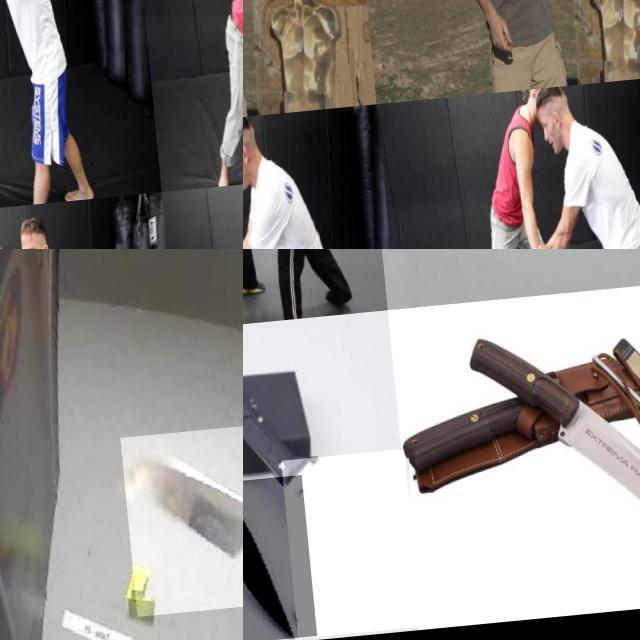-: (271, 455, 408, 640), (115, 427, 243, 621), (548, 401, 640, 566), (361, 249, 514, 321), (243, 479, 308, 640), (252, 0, 289, 34), (574, 0, 608, 32), (0, 0, 26, 31), (243, 249, 264, 265)
